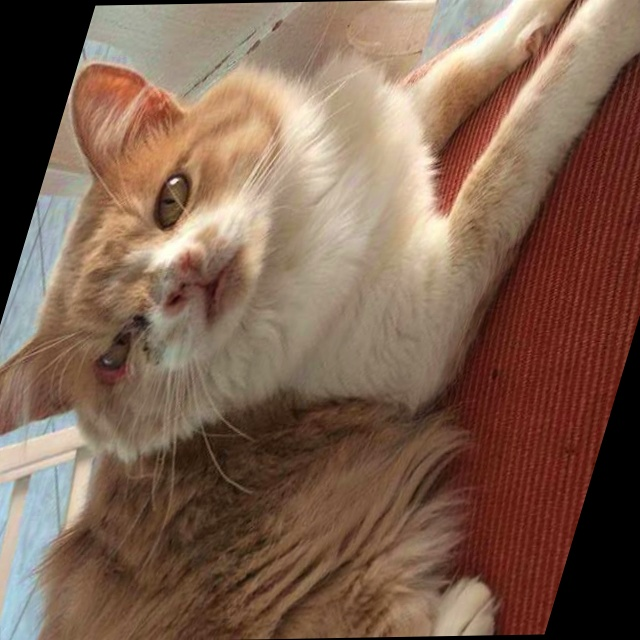eye_infection: (83, 329, 144, 380)
